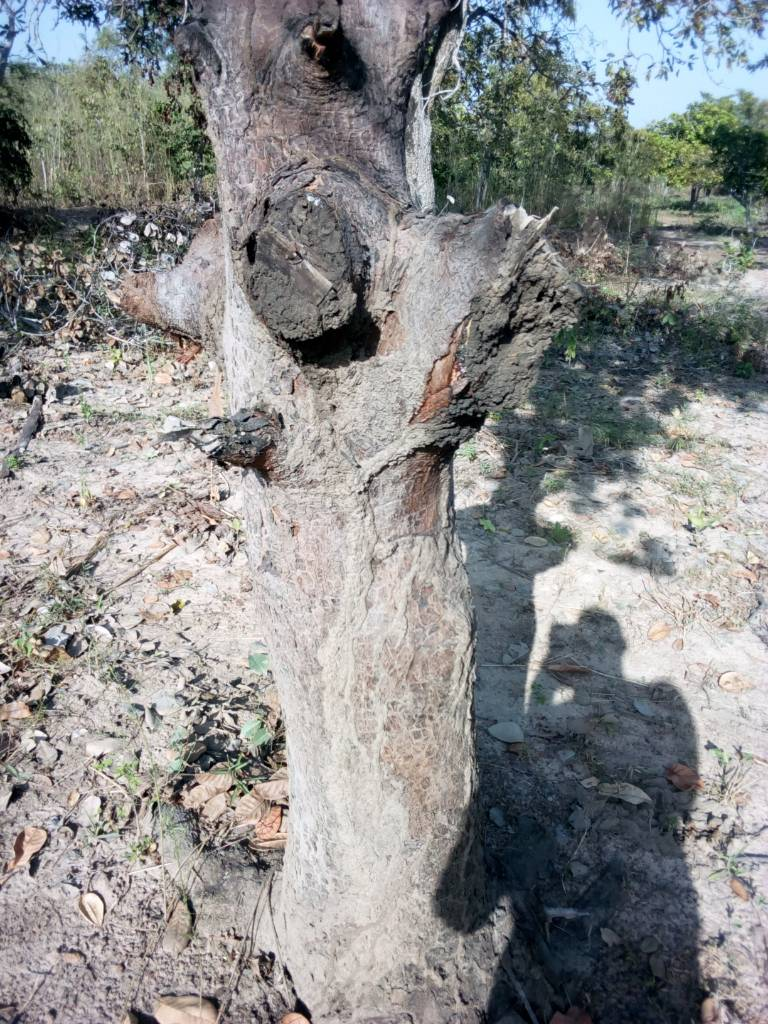Termites: (294, 436, 454, 1024)
